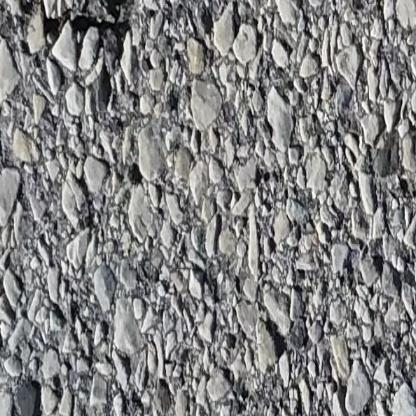Cracks: (0, 0, 158, 69)
